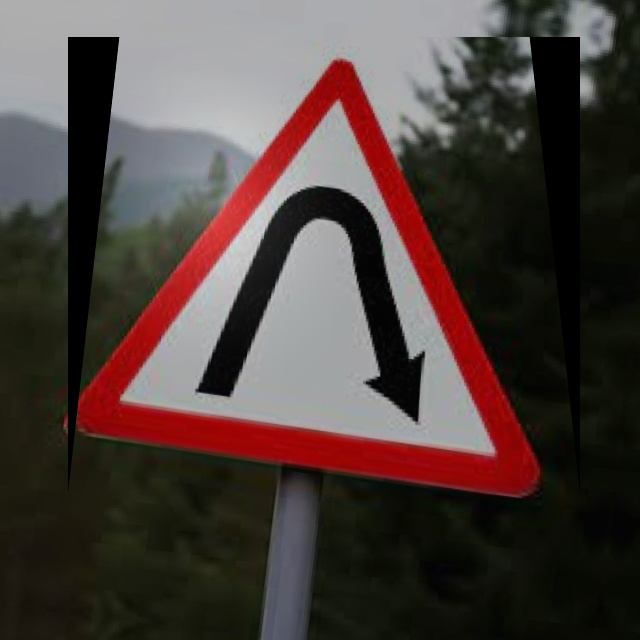Right_Hair_Pin_Bend: (68, 37, 580, 494)
